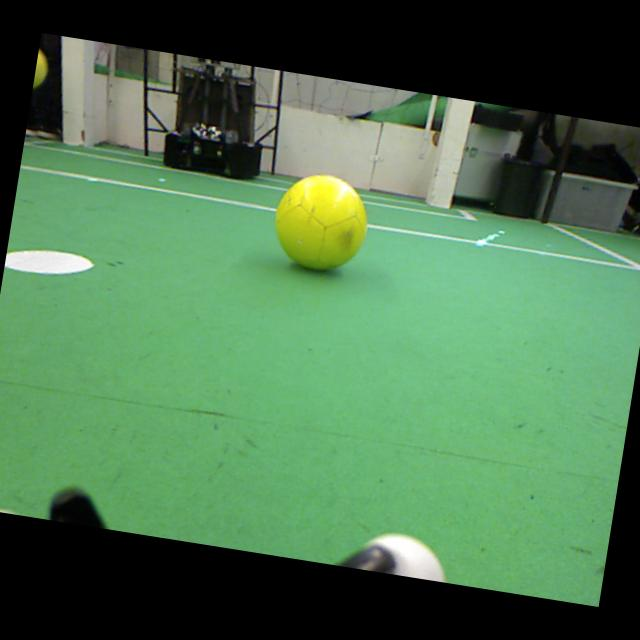ball: (276, 175, 367, 270)
goal: (431, 98, 474, 209), (61, 36, 84, 147)
robot: (163, 57, 263, 179)
